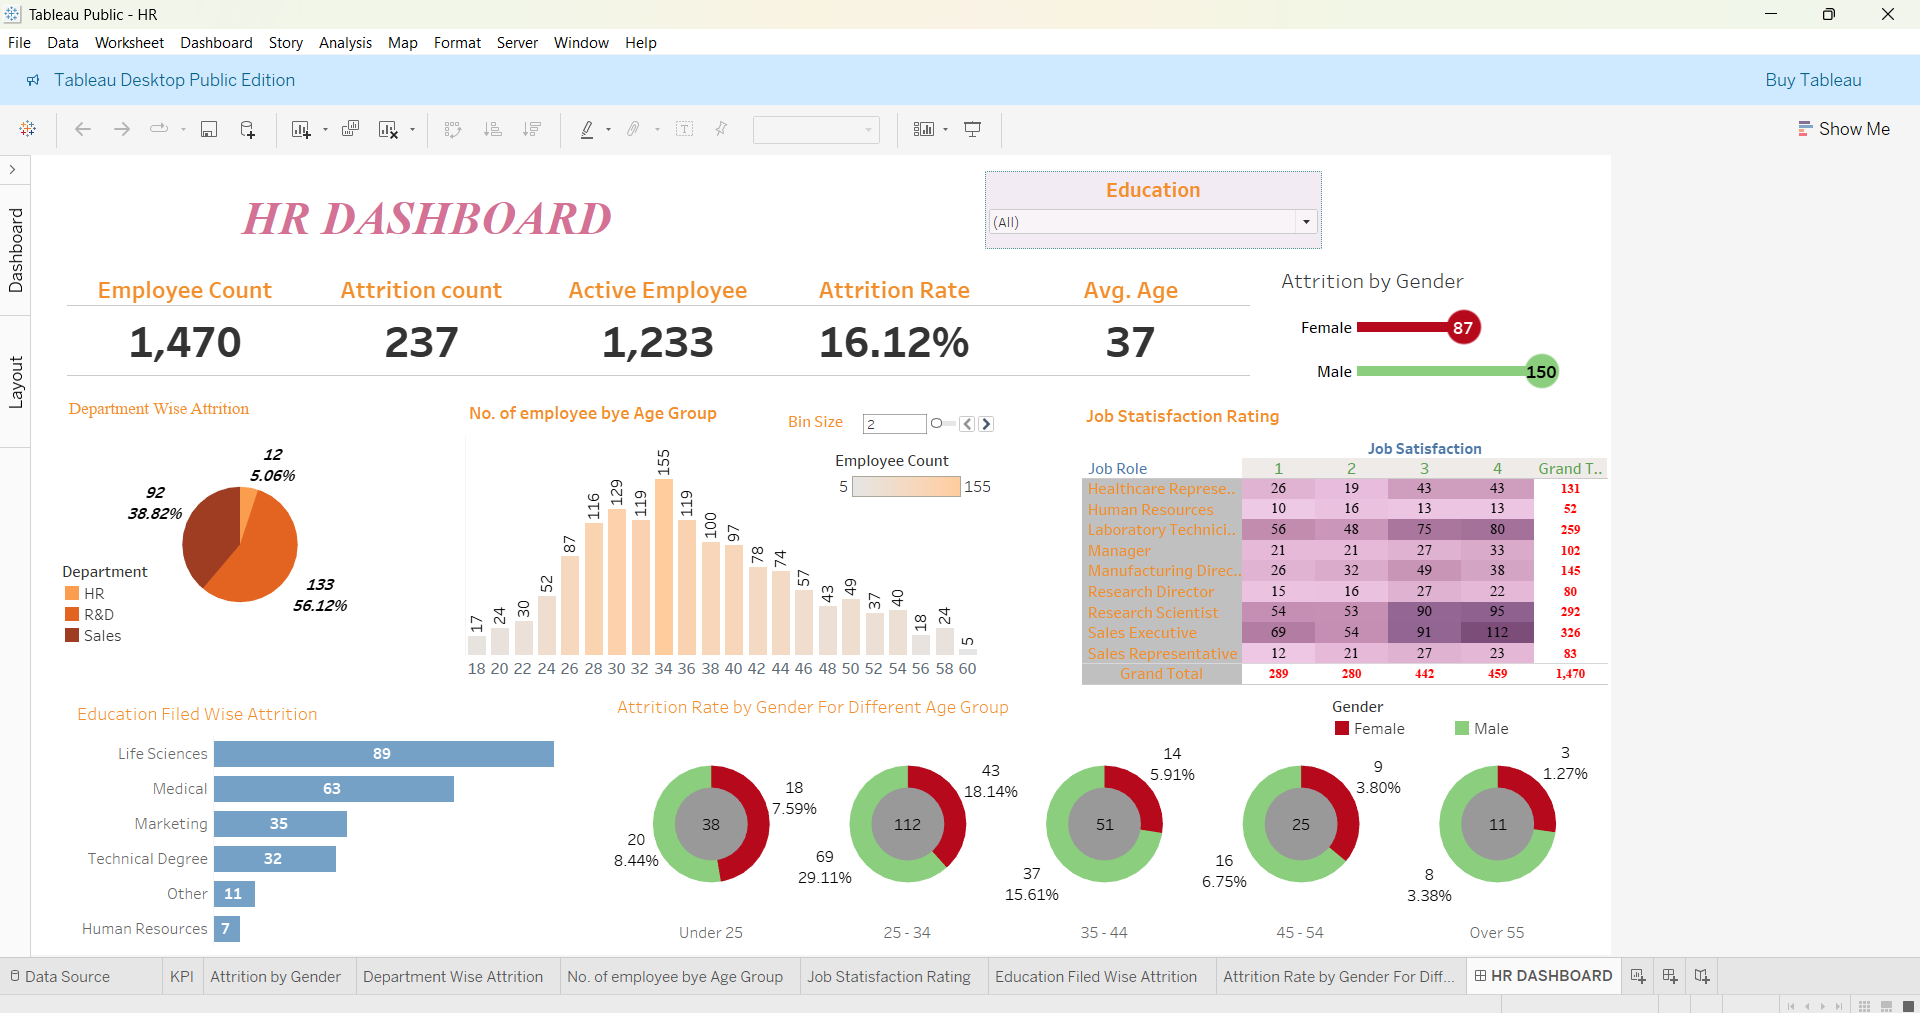

The dashboard page shown, as its layout file describes it:
{"tool":"tableau","page":{"name":"HR DASHBOARD","canvas":[1580,800],"ordinal":0},"visuals":[{"type":"filter","title":"Department Wise Attrition","param":"[federated.0def8y10v2a1xj0zrylcz096ev8v].[none:Education:nk]","box":[954,16,337,78]},{"type":"text","box":[50,22,692,84]},{"type":"worksheet","title":"Attrition by Gender","mark":"Automatic","rows":["Gender"],"cols":["Calculation_819373667989721088","Calculation_819373667989721088"],"box":[1261,106,292,131]},{"type":"worksheet","title":"KPI","mark":"Automatic","box":[36,110,1183,111]},{"type":"worksheet","title":"Department Wise Attrition","mark":"Pie","box":[34,240,350,265]},{"type":"worksheet","title":"No. of employee bye Age Group","mark":"Automatic","rows":["Employee Count"],"cols":["Age (bin)"],"box":[434,241,515,284]},{"type":"worksheet","title":"Job Statisfaction Rating","mark":"Square","rows":["Job Role"],"cols":["Job Satisfaction"],"box":[1026,245,526,286]},{"type":"parameter","param":"[Parameters].[Parameter 1]","box":[757,256,209,37]},{"type":"legend","title":"No. of employee bye Age Group","param":"[federated.0def8y10v2a1xj0zrylcz096ev8v].[sum:Employee Count:qk]","box":[804,295,161,47]},{"type":"legend","title":"Department Wise Attrition","param":"[federated.0def8y10v2a1xj0zrylcz096ev8v].[none:Department:nk]","box":[31,406,140,85]},{"type":"worksheet","title":"Attrition Rate by Gender For Different Age Group","mark":"Pie","rows":["Calculation_904097636084420609","Calculation_904097636084420609"],"cols":["CF_age band"],"box":[582,535,983,254]},{"type":"legend","title":"Attrition Rate by Gender For Different Age Group","param":"[federated.0def8y10v2a1xj0zrylcz096ev8v].[none:Gender:nk]","box":[1301,541,253,47]},{"type":"worksheet","title":"Education Filed Wise Attrition","mark":"Automatic","rows":["Education Field"],"cols":["Calculation_819373667989721088"],"box":[42,542,500,249]}]}

Visuals, with their boxes on the page's 1580x800 design canvas (x1, y1, x2, y2). These are canvas units, not pixel positions in the 1920x1013 screenshot, which may show the page scaled, cropped or inside an application window:
"Department Wise Attrition" filter: [left=954, top=16, right=1291, bottom=94]
text: [left=50, top=22, right=742, bottom=106]
"Attrition by Gender" worksheet: [left=1261, top=106, right=1553, bottom=237]
"KPI" worksheet: [left=36, top=110, right=1219, bottom=221]
"Department Wise Attrition" worksheet (Pie marks): [left=34, top=240, right=384, bottom=505]
"No. of employee bye Age Group" worksheet: [left=434, top=241, right=949, bottom=525]
"Job Statisfaction Rating" worksheet (Square marks): [left=1026, top=245, right=1552, bottom=531]
parameter: [left=757, top=256, right=966, bottom=293]
"No. of employee bye Age Group" legend: [left=804, top=295, right=965, bottom=342]
"Department Wise Attrition" legend: [left=31, top=406, right=171, bottom=491]
"Attrition Rate by Gender For Different Age Group" worksheet (Pie marks): [left=582, top=535, right=1565, bottom=789]
"Attrition Rate by Gender For Different Age Group" legend: [left=1301, top=541, right=1554, bottom=588]
"Education Filed Wise Attrition" worksheet: [left=42, top=542, right=542, bottom=791]
